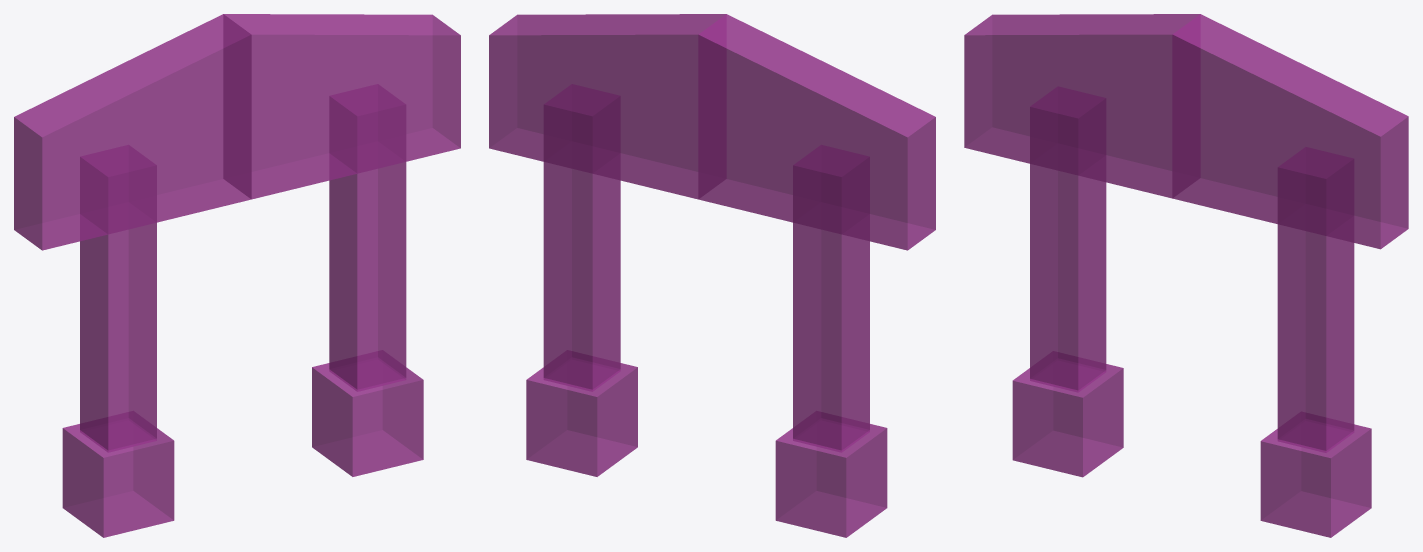
File: SM_Prop_Bell_01_Collision.fbx
The picture shows the model from 3 angles, left to right: view 1: azimuth 30°, elevation 25°; view 2: azimuth 150°, elevation 25°; view 3: azimuth 330°, elevation 25°; orthographic projection.
Parts seen in each view (by area): view 1: SM_Prop_Bell_01_Collision; view 2: SM_Prop_Bell_01_Collision; view 3: SM_Prop_Bell_01_Collision.
Boxes of the visible parts, <box> form: SM_Prop_Bell_01_Collision: <box>14,14,460,537</box>; SM_Prop_Bell_01_Collision: <box>489,14,935,537</box>; SM_Prop_Bell_01_Collision: <box>964,14,1408,537</box>.
Size of the model in its own units: 271 by 286 by 45.91.
